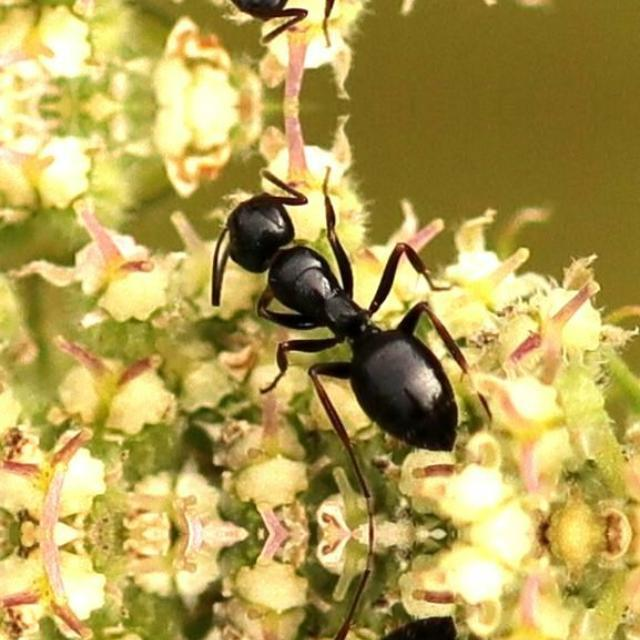Camponotus: (149, 157, 541, 486)
